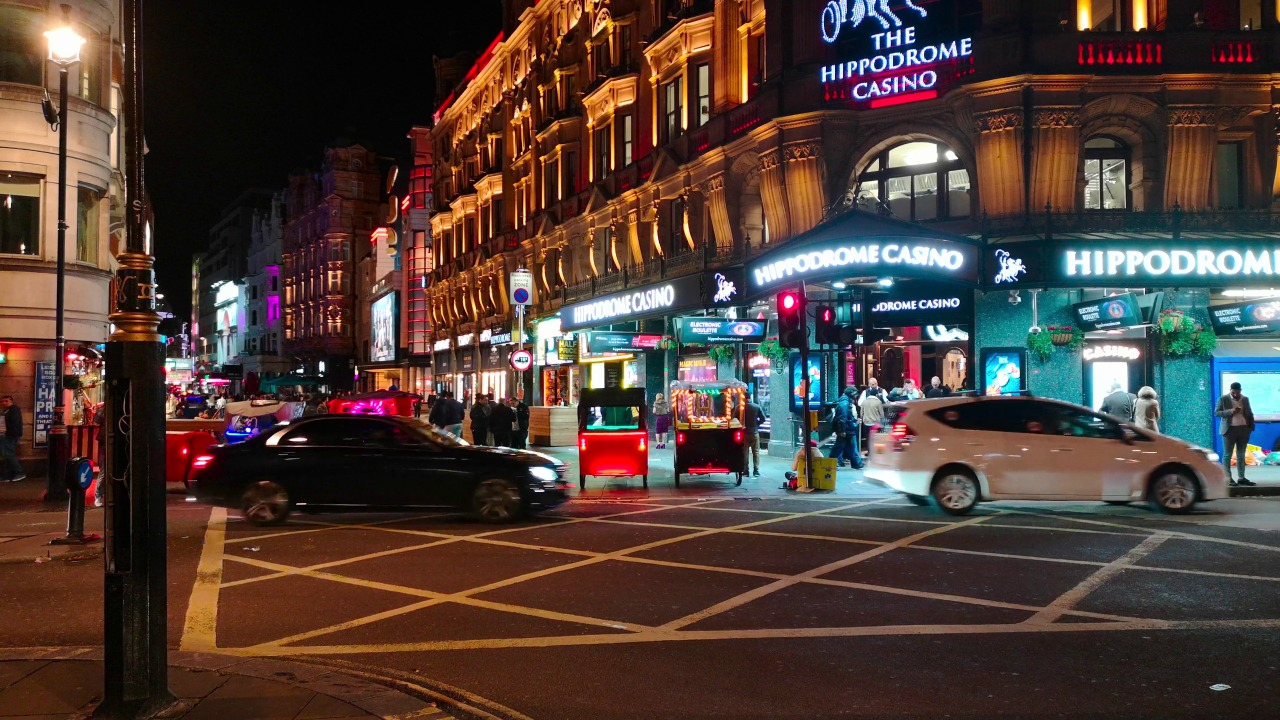car: (866, 392, 1233, 522), (184, 413, 571, 524), (669, 381, 748, 489), (577, 386, 651, 494), (162, 431, 219, 491), (221, 400, 294, 436), (328, 394, 416, 415)
person: (1212, 383, 1261, 486), (829, 381, 866, 470), (1, 394, 29, 487), (737, 391, 765, 477), (90, 397, 109, 509), (785, 439, 826, 489), (1098, 383, 1139, 423), (861, 388, 882, 458), (1134, 386, 1160, 432), (508, 397, 529, 452), (650, 393, 669, 452), (493, 398, 515, 446), (885, 384, 911, 423), (471, 395, 490, 446), (445, 392, 466, 438), (432, 388, 449, 432), (925, 373, 946, 389), (316, 392, 329, 412), (425, 386, 438, 405), (865, 379, 884, 391), (927, 389, 944, 396)
